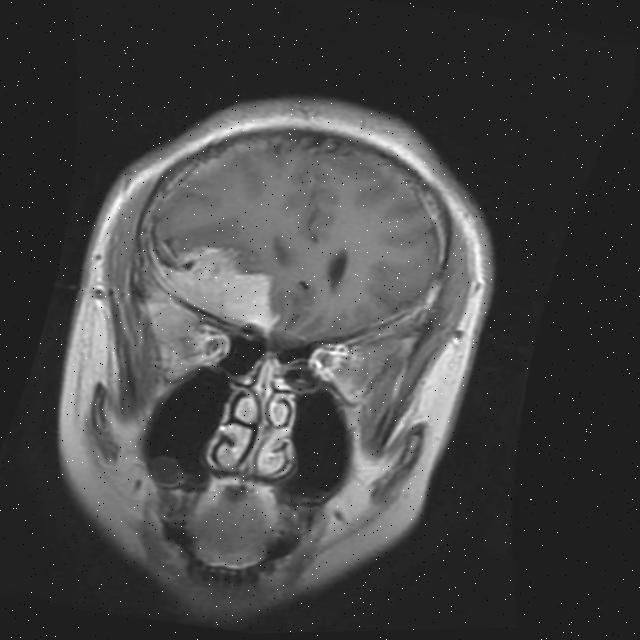Meningioma: (139, 231, 297, 332)
